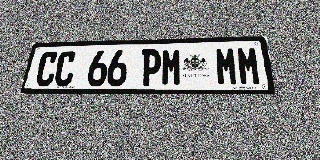6: (86, 50, 110, 86), (106, 50, 129, 86)
C: (34, 51, 59, 86), (53, 51, 77, 86)
M: (236, 47, 262, 86), (215, 47, 239, 86), (161, 48, 182, 86)
P: (140, 49, 161, 86)
